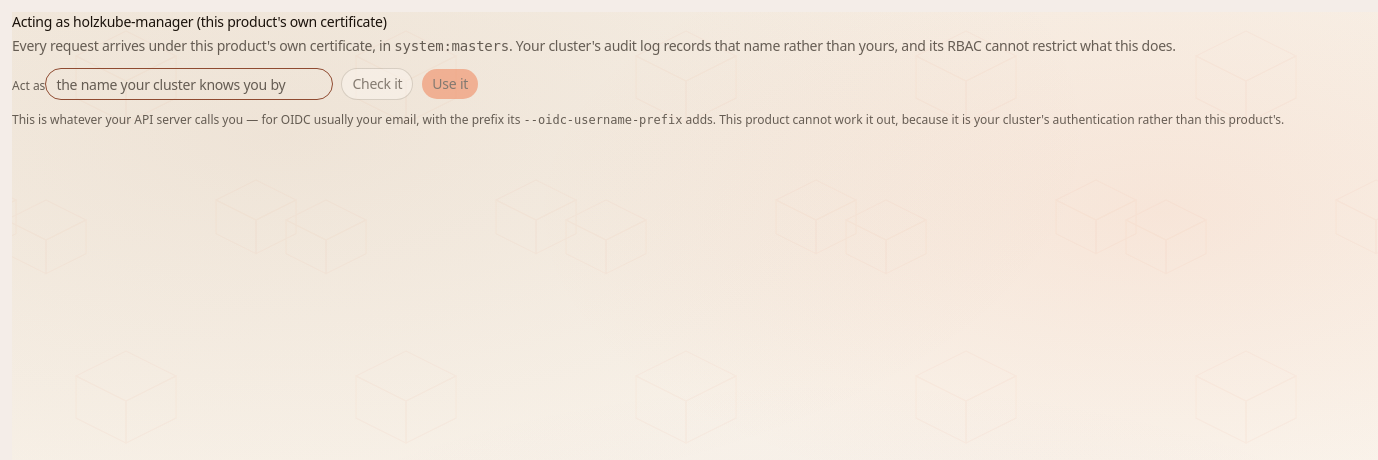
choosing whose name the cluster sees › throws the check away when the name is edited afterwards
Type "admin@example.com" into the field labelled "Act as" at (189, 84), box [45, 68, 333, 100]
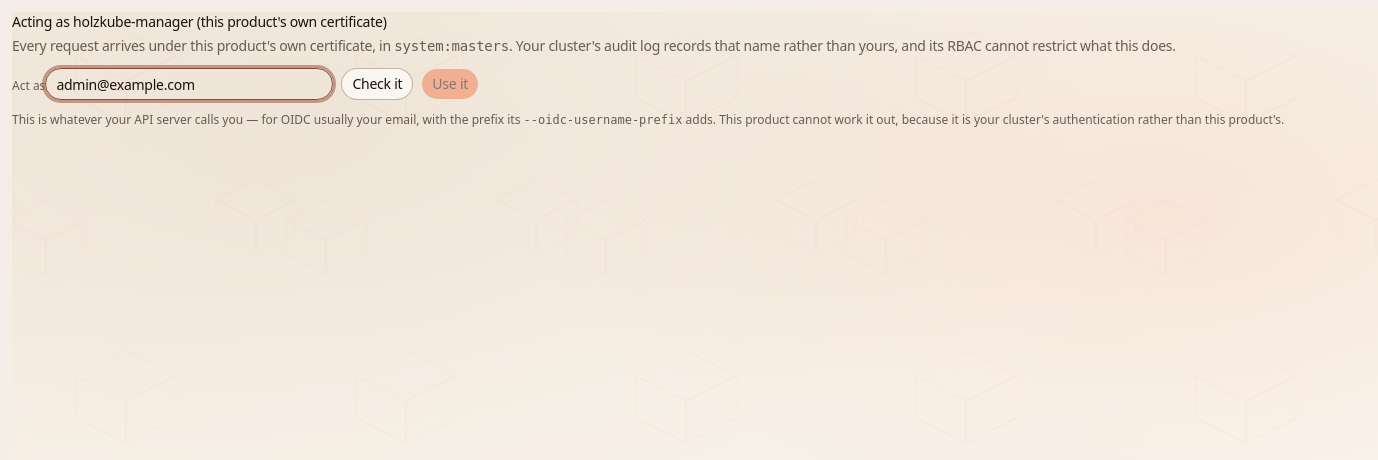
Click the button "Check it" at (377, 84), box [341, 68, 413, 100]
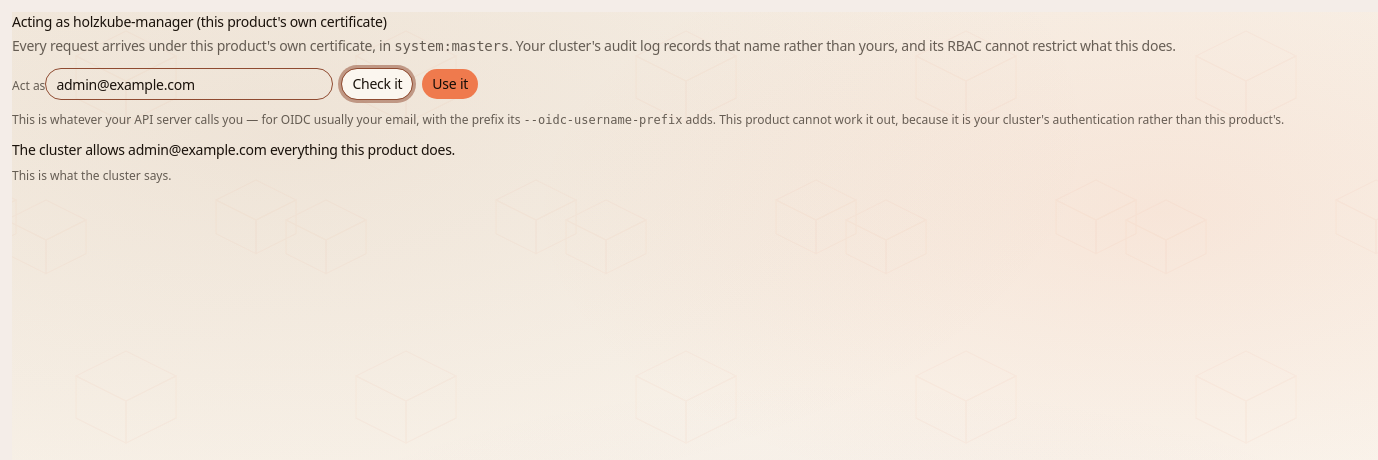
Expected: the button "Use it" is enabled, [421, 68, 479, 100]
Type "x" into the field labelled "Act as" at (189, 84), box [45, 68, 333, 100]
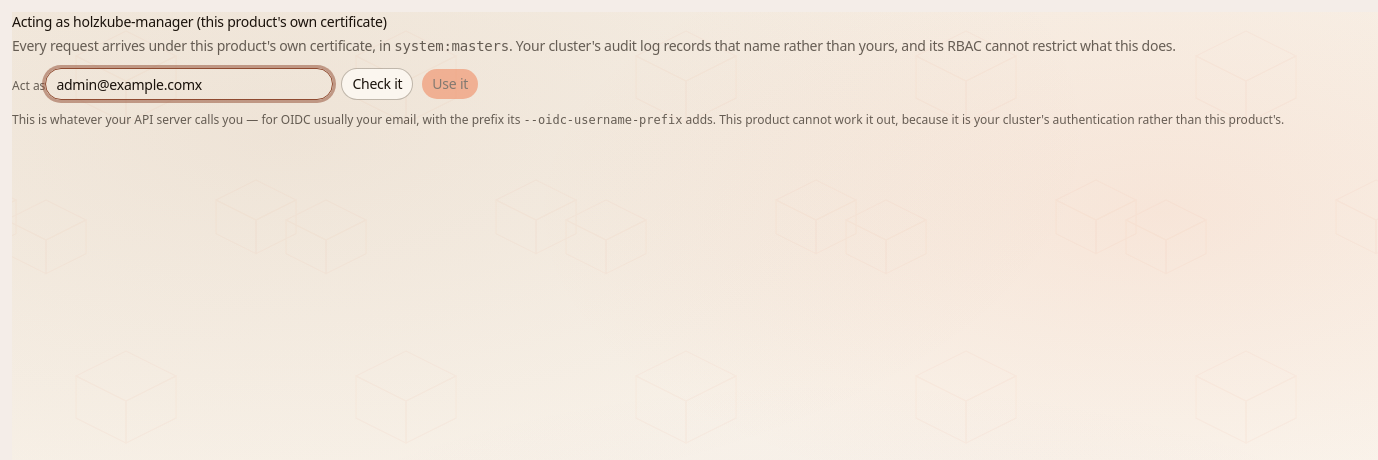
Expected: the button "Use it" is disabled, [421, 68, 479, 100]
